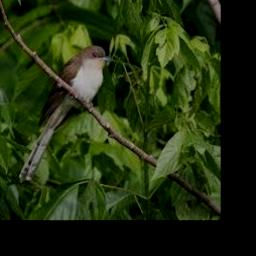Cuckoo: (17, 45, 111, 182)
